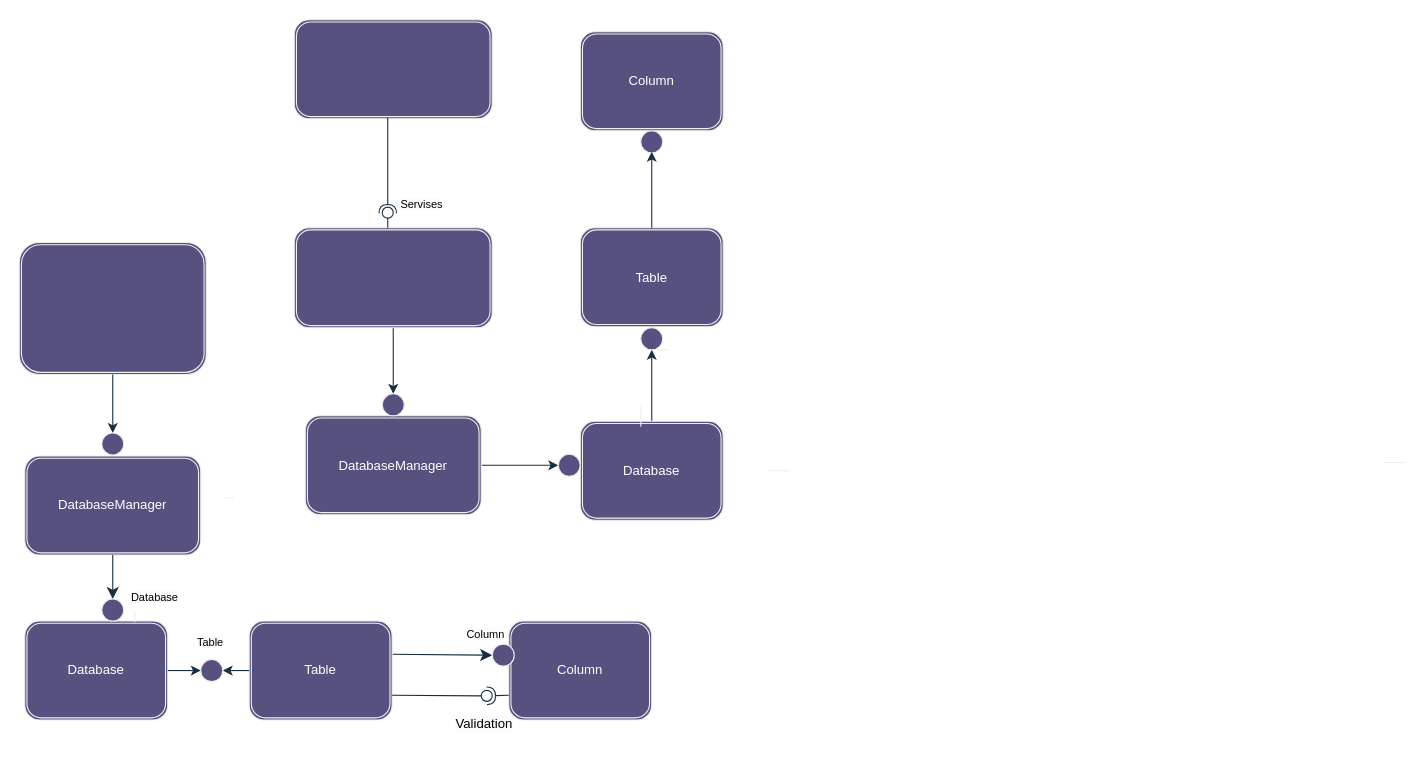
Image size: 1425x761. Some labels were removed from this diagram. Here are the shapes that lost their labels. From the top down, the centre of each, then its label:
At (392,69): "<<UI>> User Application".
At (392,277): "Server Application".
At (112,308): "<<UI>> WinForms Application".
